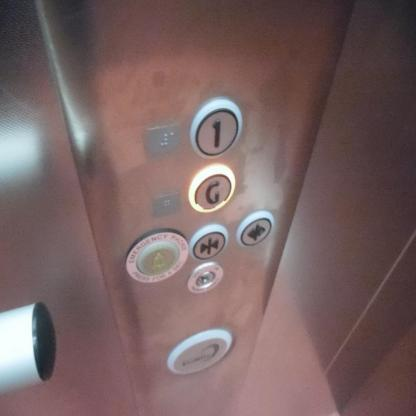1: (188, 96, 243, 159)
G: (187, 162, 236, 214)
alarm: (124, 227, 188, 283)
close: (189, 222, 229, 261)
keyhole: (186, 261, 224, 294)
open: (234, 209, 274, 249)
unknown: (165, 326, 236, 376)
